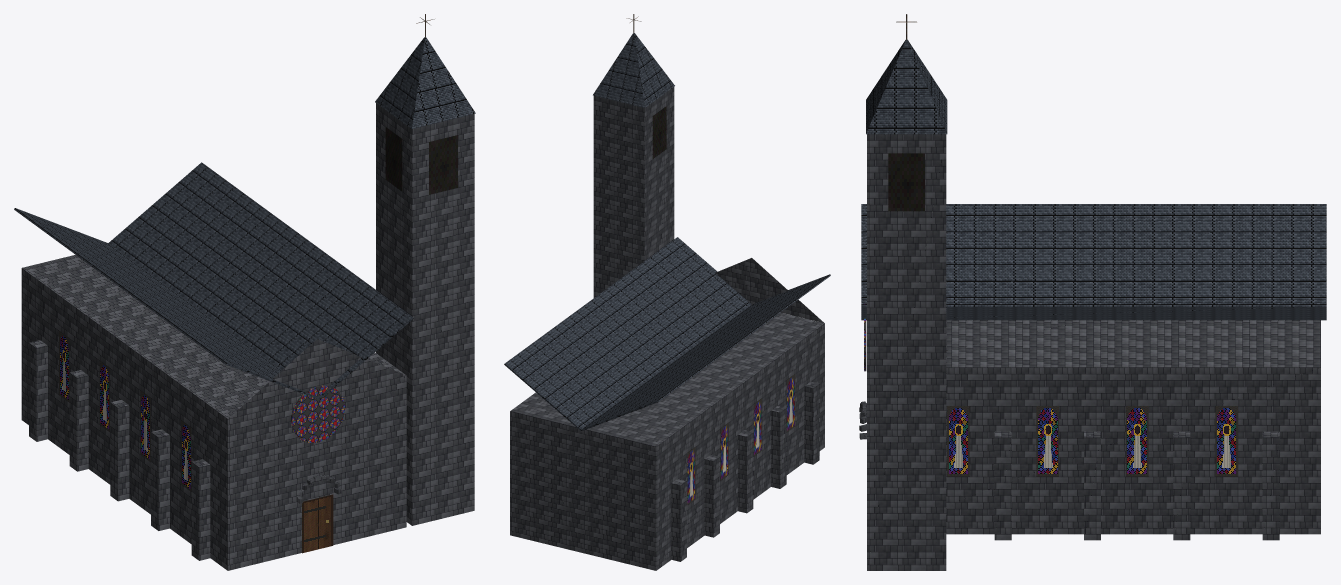
File: santuario.obj
The picture shows the model from 3 angles, left to right: view 1: azimuth 30°, elevation 25°; view 2: azimuth 150°, elevation 25°; view 3: azimuth 270°, elevation 25°; orthographic projection. The views are drawn at different scales.
Parts seen in each view (by area): view 1: santuario; view 2: santuario; view 3: santuario.
Part boxes in pixels (box(x1,y1,x2,y2)): santuario: box(14, 14, 475, 570); santuario: box(504, 14, 830, 570); santuario: box(859, 14, 1326, 570).
Bounding box in the file's own units: 23.17 × 42 × 32.93.
Materials: 8 (8 with a texture image).
